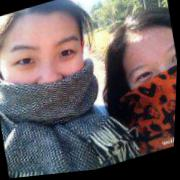OK: (120, 39, 178, 127)
WRONG: (1, 19, 97, 133)
